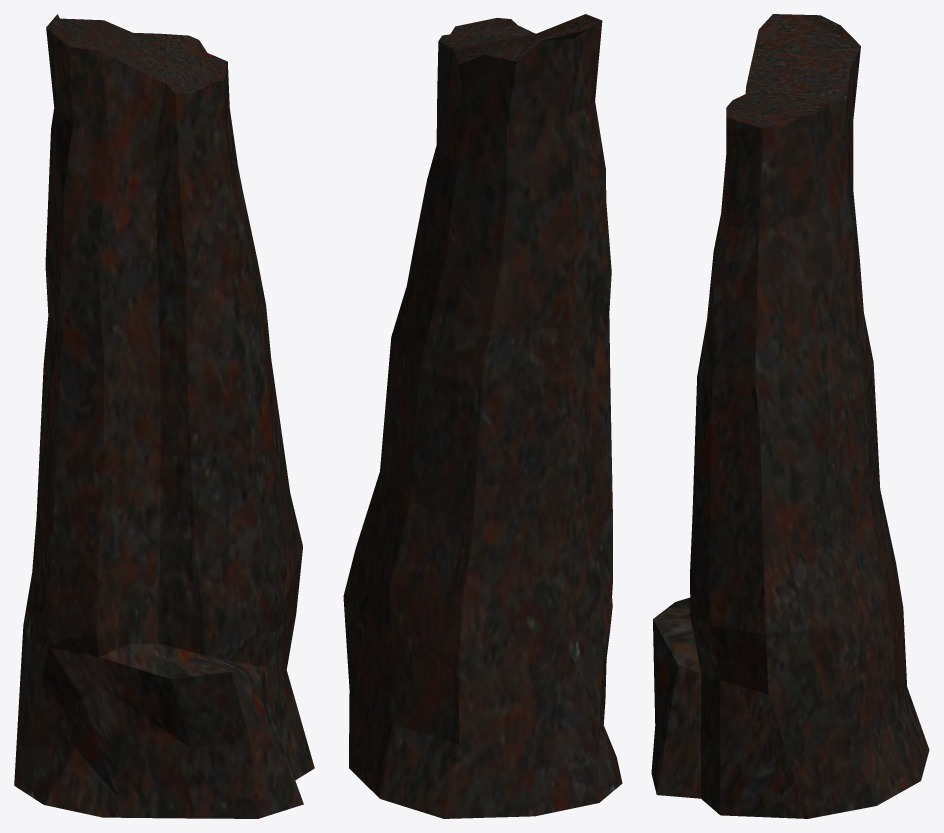
Rendered from rock_large_morii.fbx.
The picture shows the model from 3 angles, left to right: view 1: azimuth 30°, elevation 25°; view 2: azimuth 150°, elevation 25°; view 3: azimuth 270°, elevation 25°; orthographic projection. The views are drawn at different scales.
Visible parts, largest first — view 1: Plane001; view 2: Plane001; view 3: Plane001.
Boxes of the visible parts, bbox=[...] form: Plane001: bbox=[14, 14, 314, 818]; Plane001: bbox=[343, 14, 622, 818]; Plane001: bbox=[651, 14, 929, 818].
Size of the model in its own units: 21.65 by 60.97 by 21.83.
